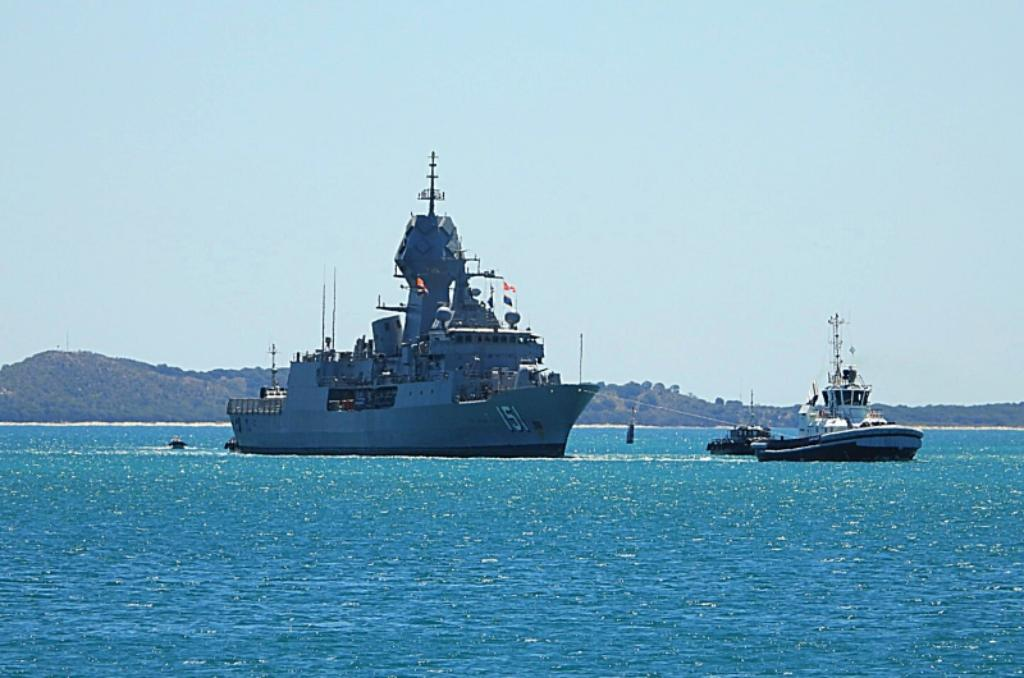Warship: (214, 147, 610, 459)
